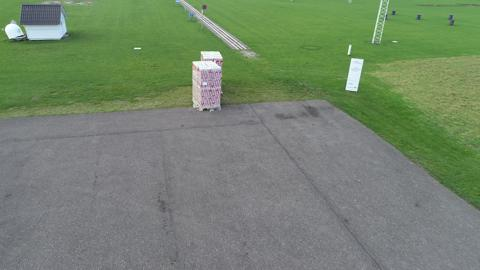RockwoolPallet: (202, 51, 224, 76)
